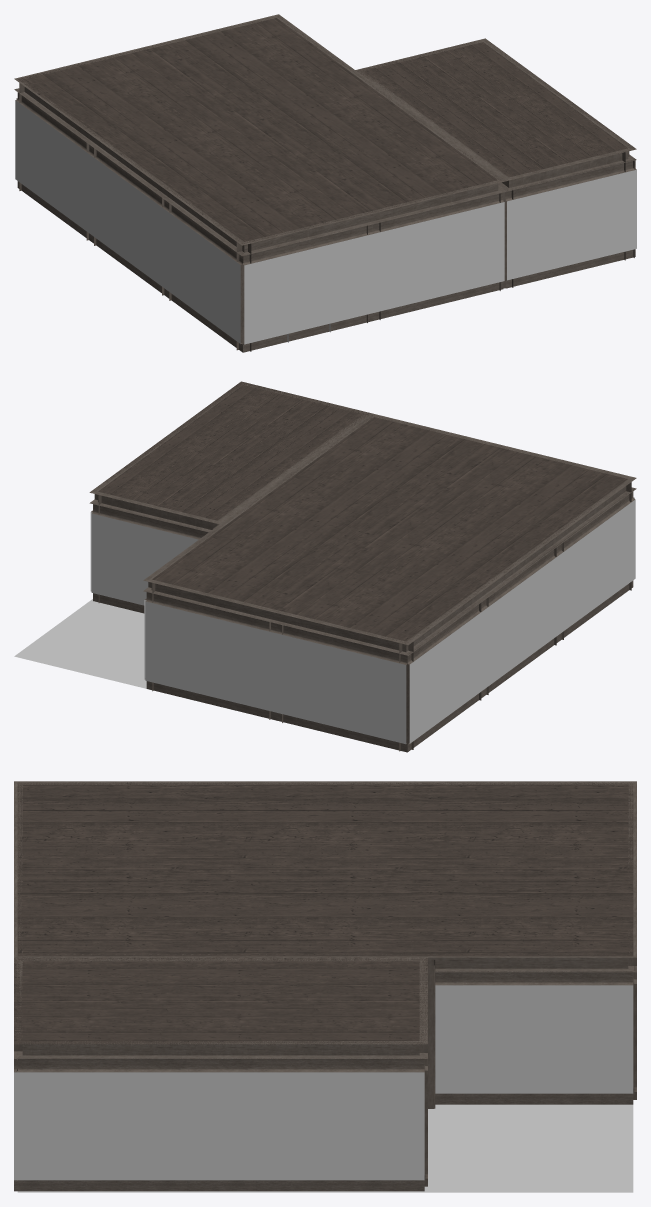
Rendered from house_interior9.fbx.
3 views of the same model, one above another, from view 1: azimuth 30°, elevation 25°; view 2: azimuth 150°, elevation 25°; view 3: azimuth 270°, elevation 25° (orthographic). The views are drawn at different scales.
Parts seen in each view (by area): view 1: house_interior9; view 2: house_interior9; view 3: house_interior9.
Boxes of the visible parts, x1=… form: house_interior9: x1=14, y1=14, x2=636, y2=352; house_interior9: x1=14, y1=381, x2=636, y2=752; house_interior9: x1=14, y1=781, x2=636, y2=1192.
Size of the model in its own units: 1517 by 399 by 1517.
